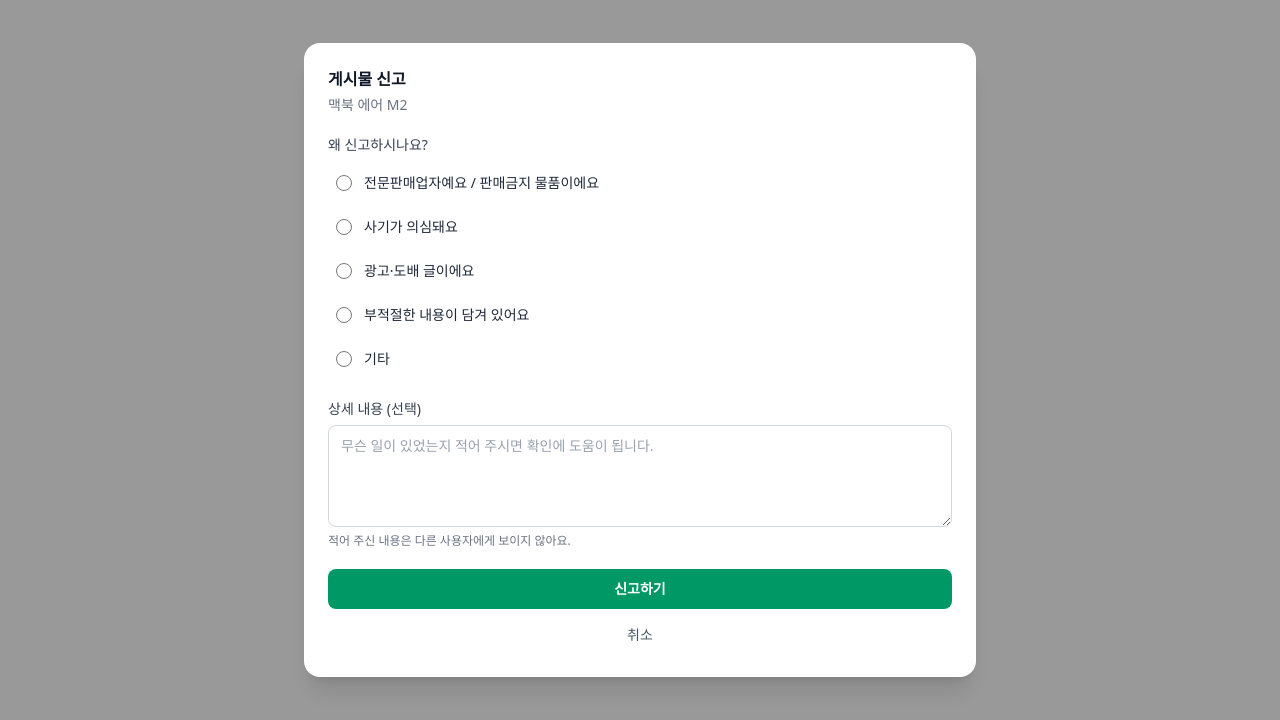
Test: ReportSheet › 사유를 고르지 않으면 보내지 않는다
Click the button "신고하기" at coordinates (640, 589), box [328,569,952,609]
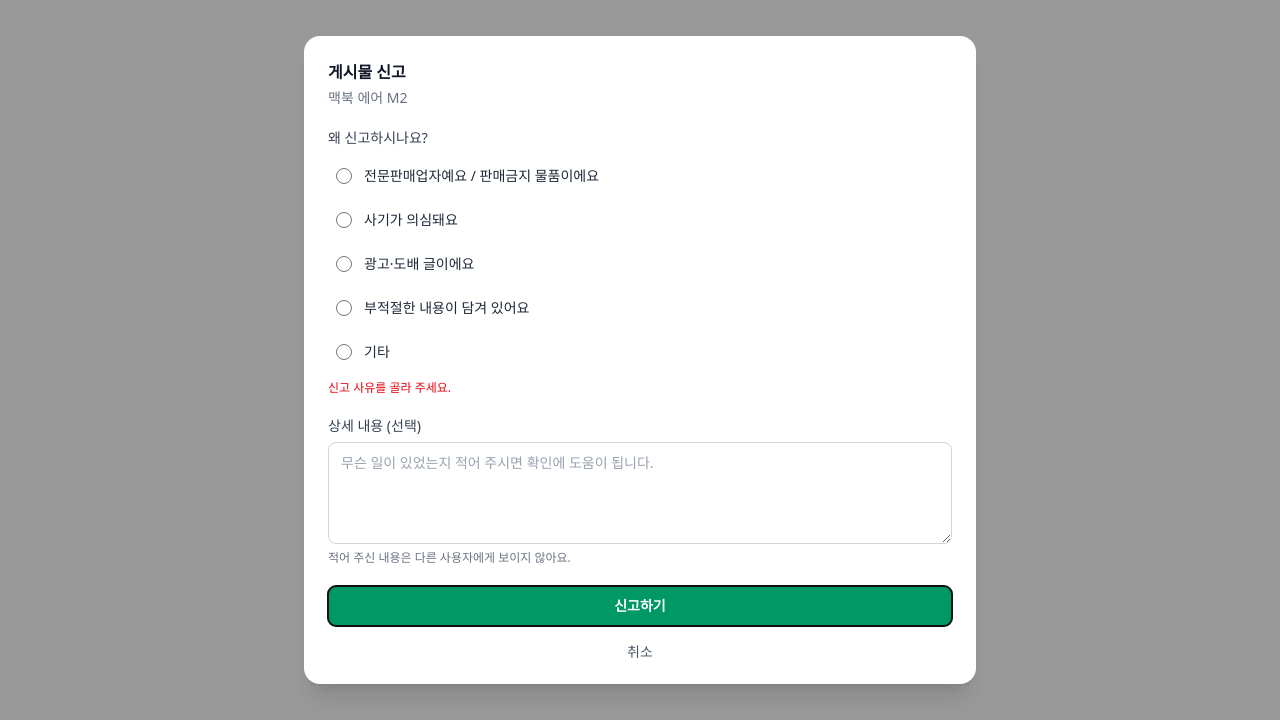
Result: the text "신고 사유를 골라 주세요." is shown at [328,379,451,396]
